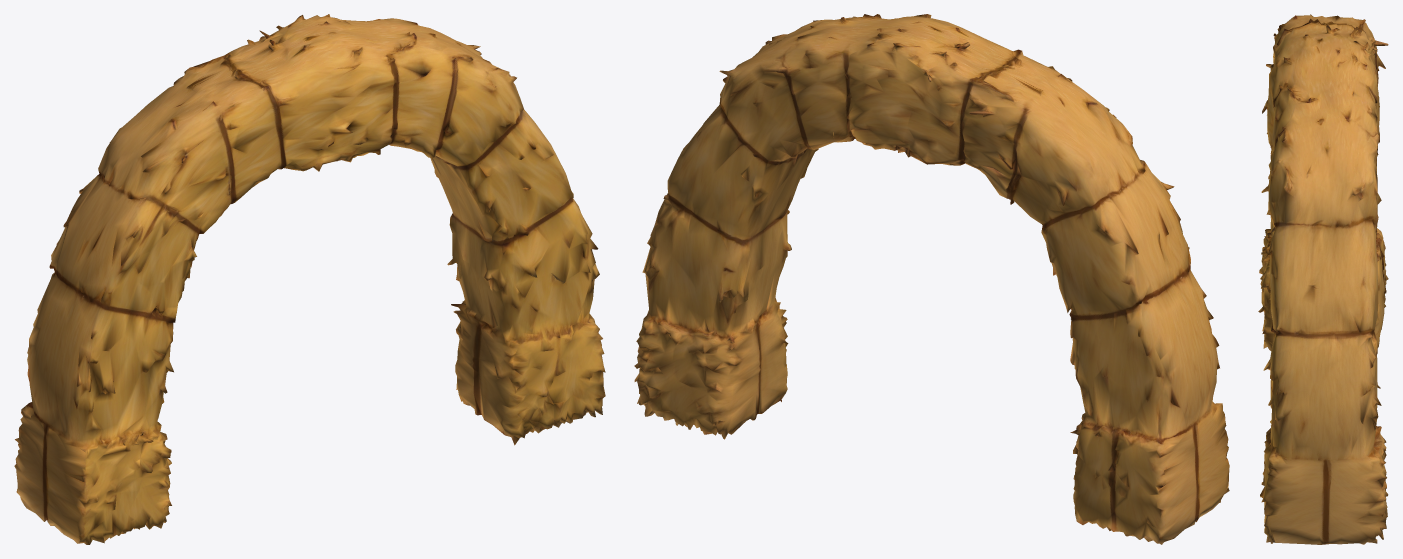
File: Meshy_AI_Golden_Fur_Arch_0503074811_texture.fbx
3 views of the same model, side by side, from view 1: azimuth 30°, elevation 25°; view 2: azimuth 150°, elevation 25°; view 3: azimuth 270°, elevation 25° (orthographic). The views are drawn at different scales.
Parts seen in each view (by area): view 1: Mesh_0; view 2: Mesh_0; view 3: Mesh_0.
Boxes of the visible parts, bbox=[...] form: Mesh_0: bbox=[14, 14, 605, 544]; Mesh_0: bbox=[634, 14, 1229, 544]; Mesh_0: bbox=[1258, 14, 1388, 544].
Bounding box in the file's own units: 200 × 156 × 46.27.
Materials: 1 (1 with a texture image).
